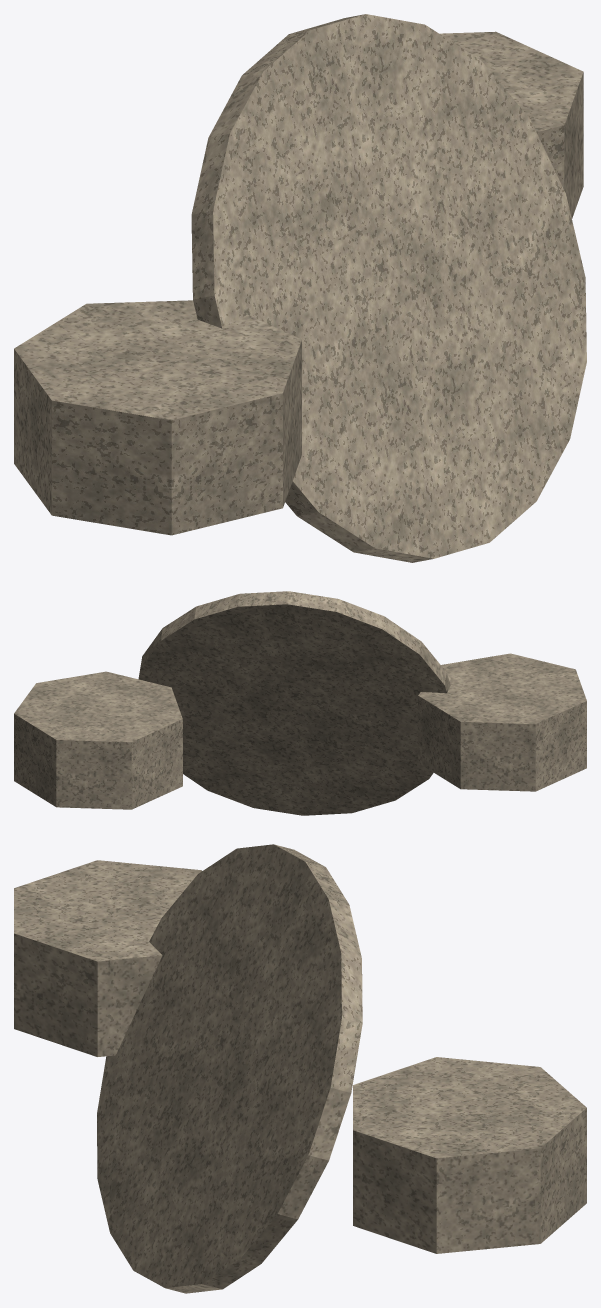
File: find-coin.glb
The picture shows the model from 3 angles, top to bottom: view 1: azimuth 30°, elevation 25°; view 2: azimuth 150°, elevation 25°; view 3: azimuth 270°, elevation 25°; orthographic projection. The views are drawn at different scales.
Visible parts, largest first — view 1: find-coin; view 2: find-coin; view 3: find-coin.
Part boxes in pixels (x1,y1,x2,y2): find-coin: [14, 14, 586, 562]; find-coin: [14, 591, 586, 815]; find-coin: [14, 844, 586, 1293].
Size of the model in its own units: 0.4014 by 0.243 by 0.3259.
Materials: 1 (1 with a texture image).
